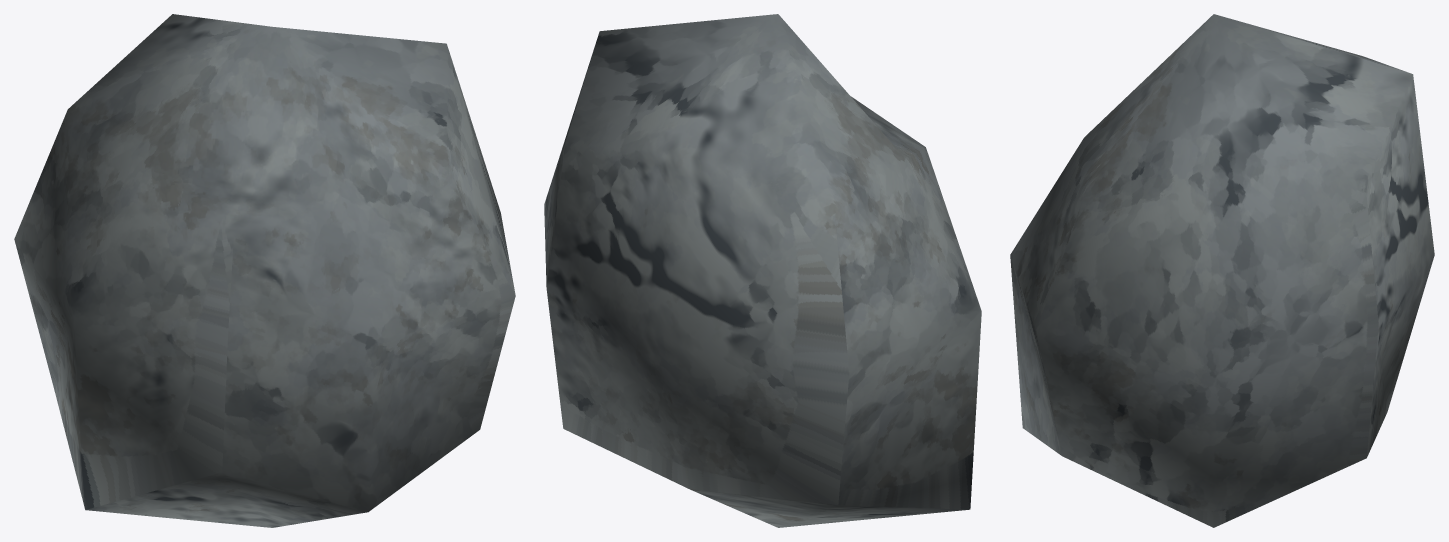
The model's file is Rock1_Low.fbx.
3 renders of one model, left to right at view 1: azimuth 30°, elevation 25°; view 2: azimuth 150°, elevation 25°; view 3: azimuth 270°, elevation 25°, orthographic. The views are drawn at different scales.
Visible parts, largest first — view 1: Rock1.High.006; view 2: Rock1.High.006; view 3: Rock1.High.006.
Part boxes in pixels (x1=…): Rock1.High.006: x1=14, y1=14, x2=515, y2=527; Rock1.High.006: x1=544, y1=14, x2=981, y2=527; Rock1.High.006: x1=1010, y1=14, x2=1434, y2=527.
Size of the model in its own units: 137 by 154 by 118.
